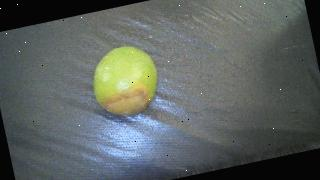DESECHO: (87, 41, 165, 122)
